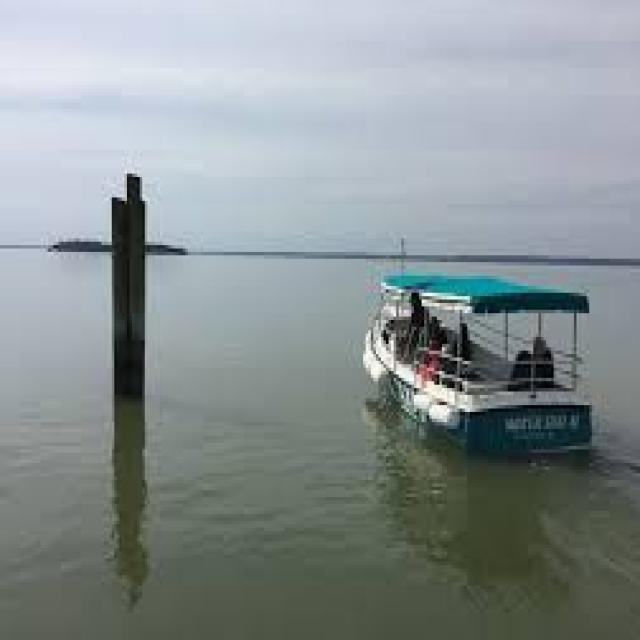houseboat: (359, 252, 600, 454)
